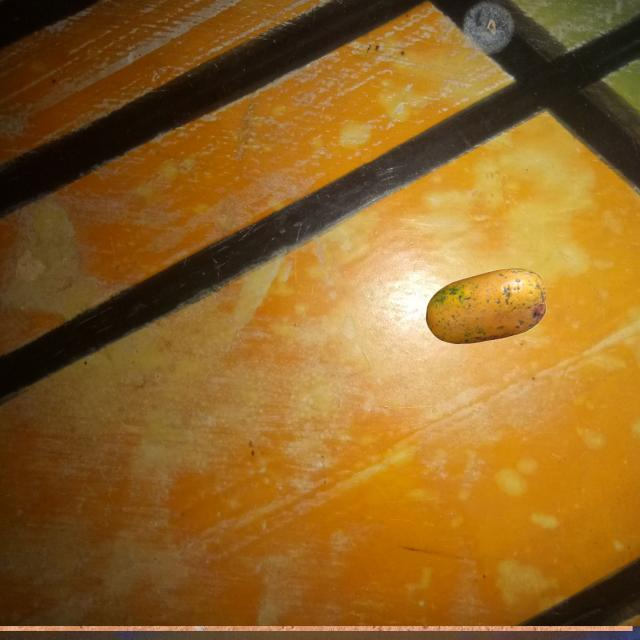Pepaya rippen: (409, 262, 567, 356)
